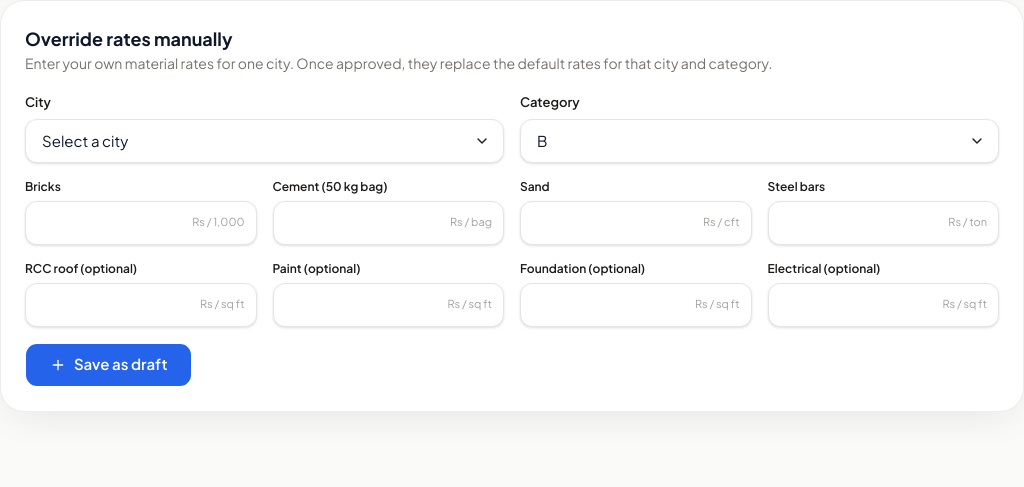
ManualRateForm › names the first missing required material
Select "Karachi" in the dropdown labelled "City": point(264, 140) [25,118,504,162]
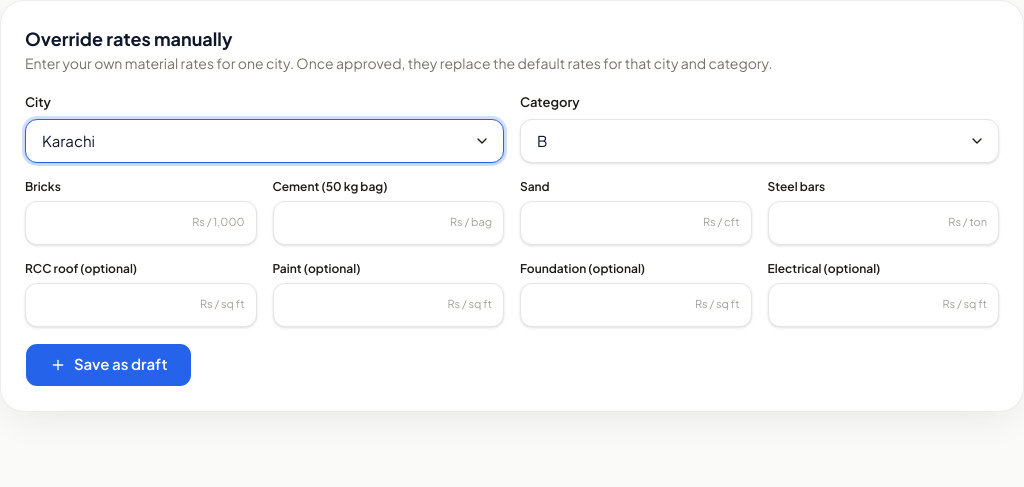
Click the button "Save as draft": point(109, 364) [25,342,192,386]
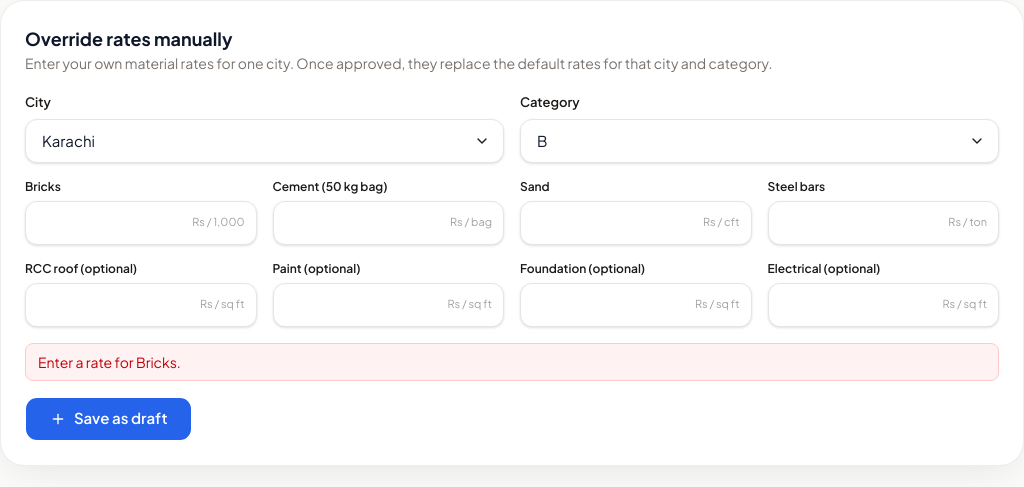
Now the message reads "Enter a rate for Bricks.", box [38,352,181,370]
